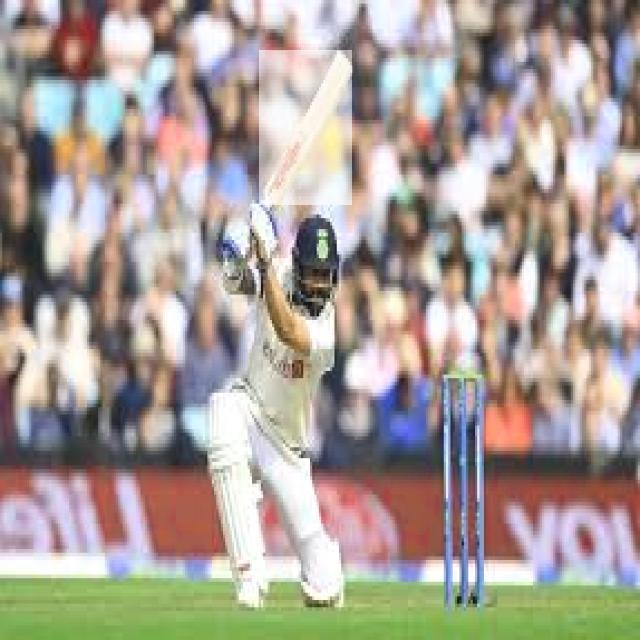bat: (260, 48, 353, 203)
toe: (333, 43, 355, 76)
